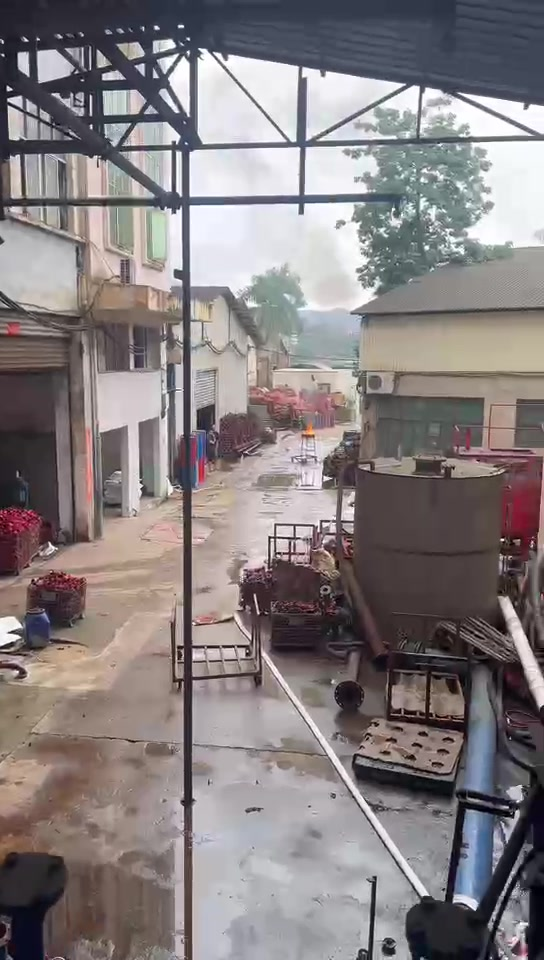fire: (301, 422, 314, 434)
